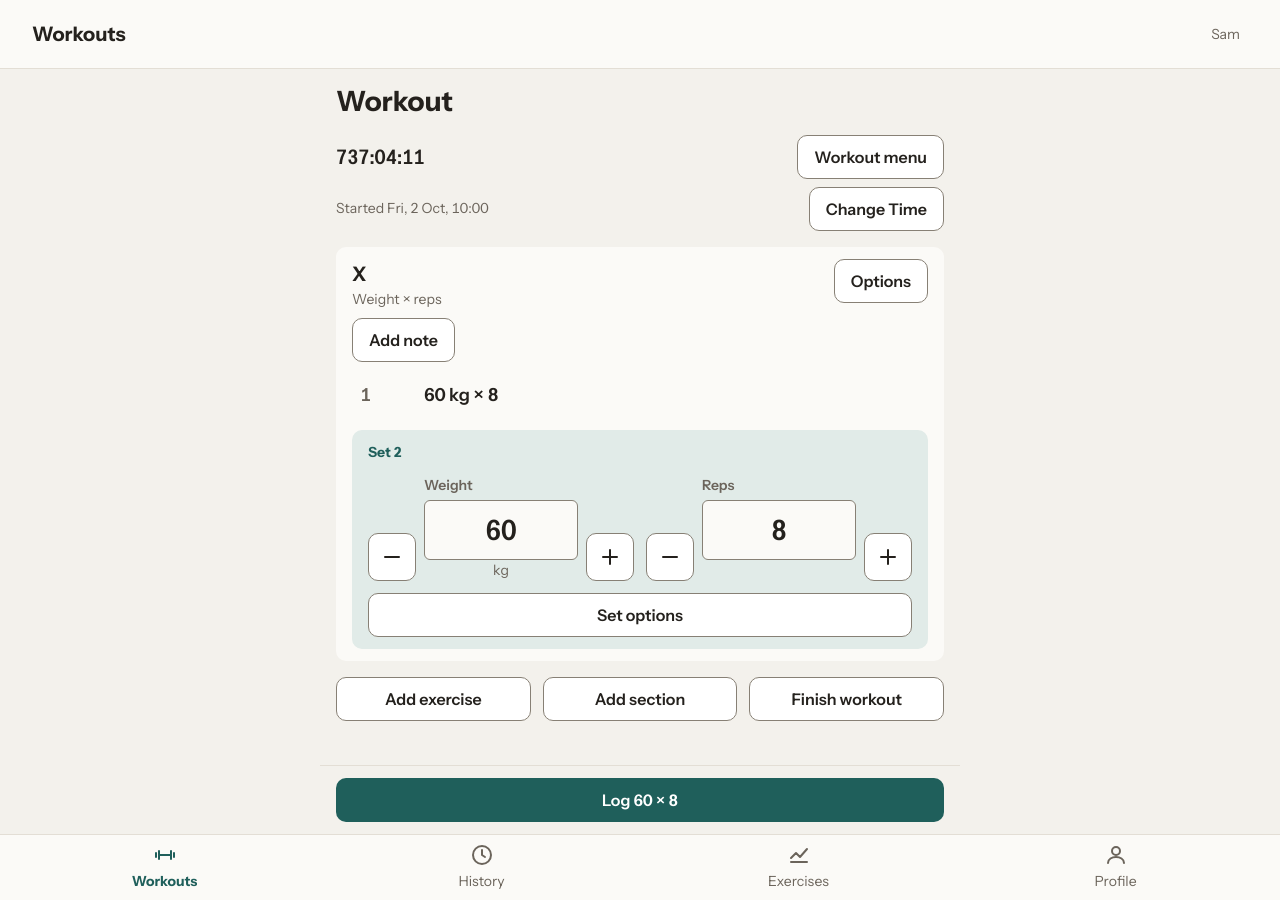
Test: 06.2 AC12 — a synced op updates the cache in place › a focus refetch while a set is pending keeps the row, once
Expected: the heading "Workout" is shown, [336,84,453,118]
Replace the text in the field labelled "Reps" with "5" at (779, 530), box [702,500,856,560]
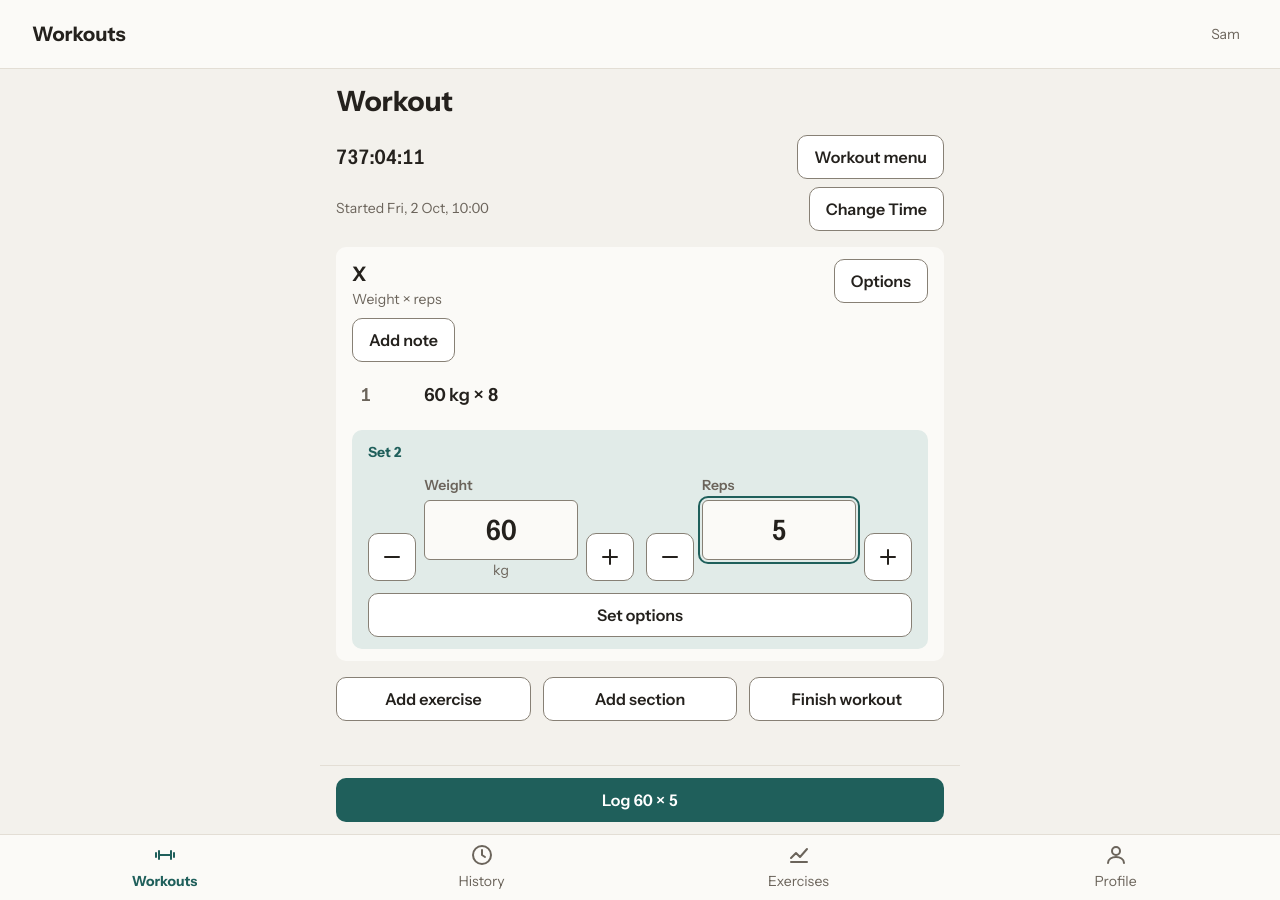
Click the button "Log 60 × 5" at (640, 800), box [336,778,944,822]
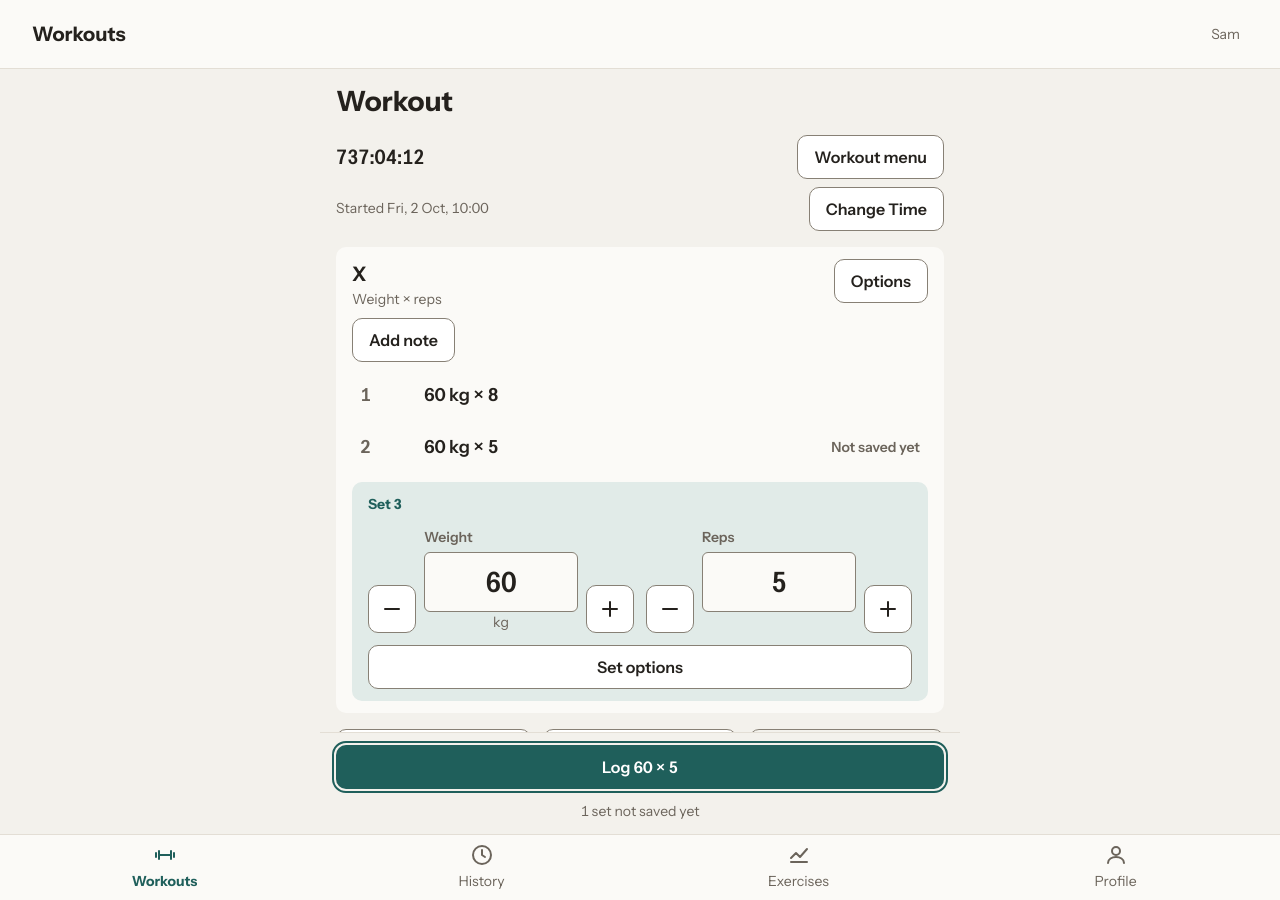
Expected: the number of buttons "2 60 kg × 5 Not saved yet" is 1, [352,426,928,470]
